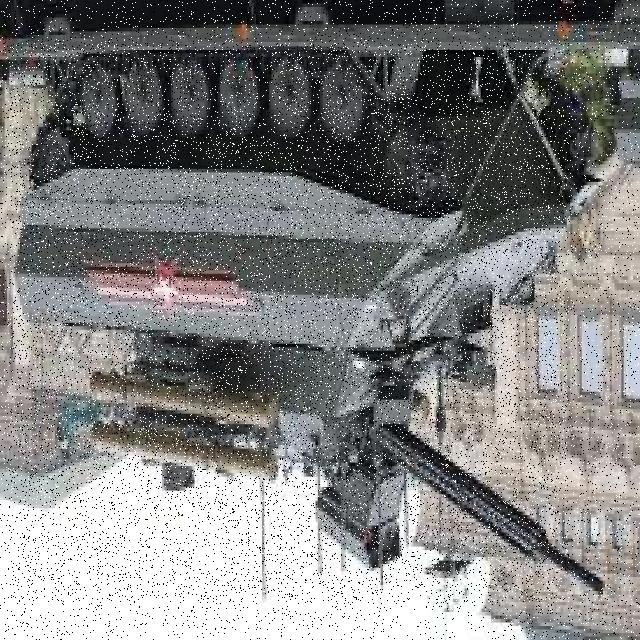MIL_MBT: (11, 43, 568, 601)
